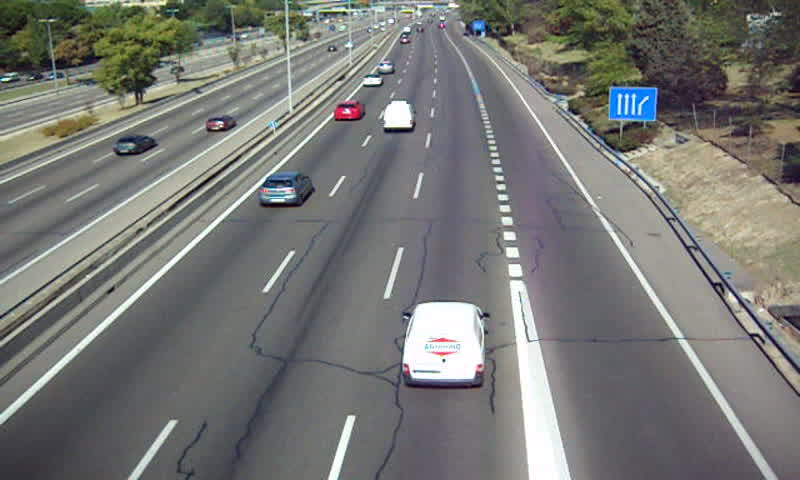car: (258, 172, 312, 207), (334, 101, 363, 122), (362, 74, 382, 87), (378, 60, 392, 74)
van: (402, 301, 485, 386), (382, 100, 417, 131)
